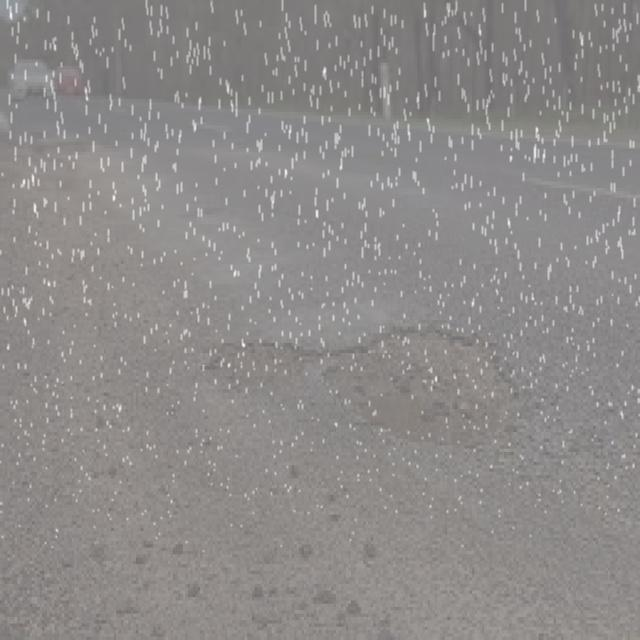Pothole: (203, 312, 538, 461)
